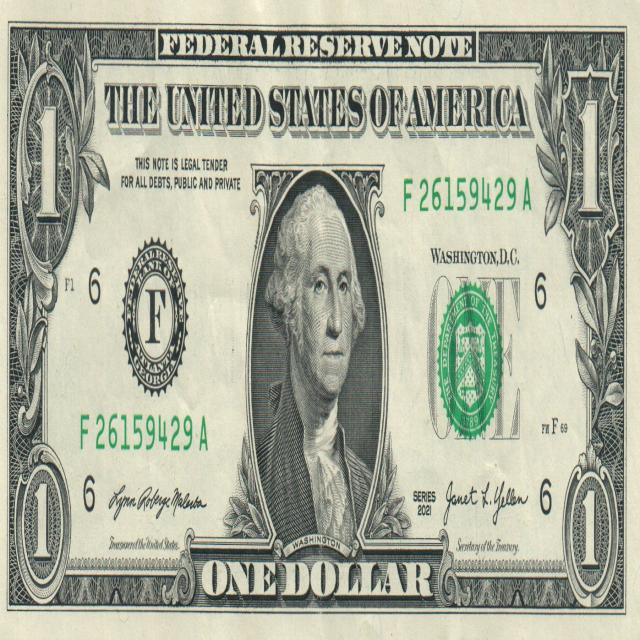SerialNumber: (81, 414, 207, 450), (404, 177, 531, 211)
